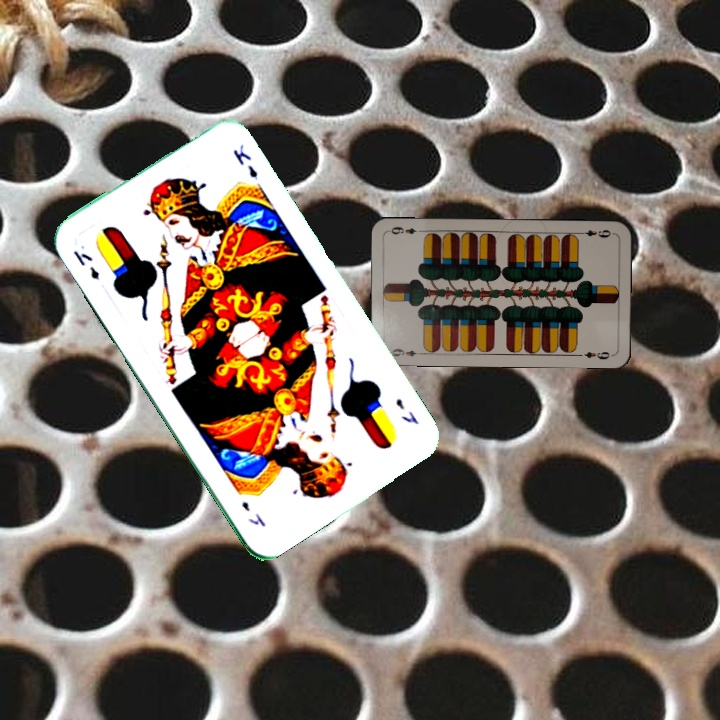E9: (575, 226, 615, 240), (385, 345, 425, 359)
EK: (69, 246, 102, 283), (391, 394, 421, 427)
